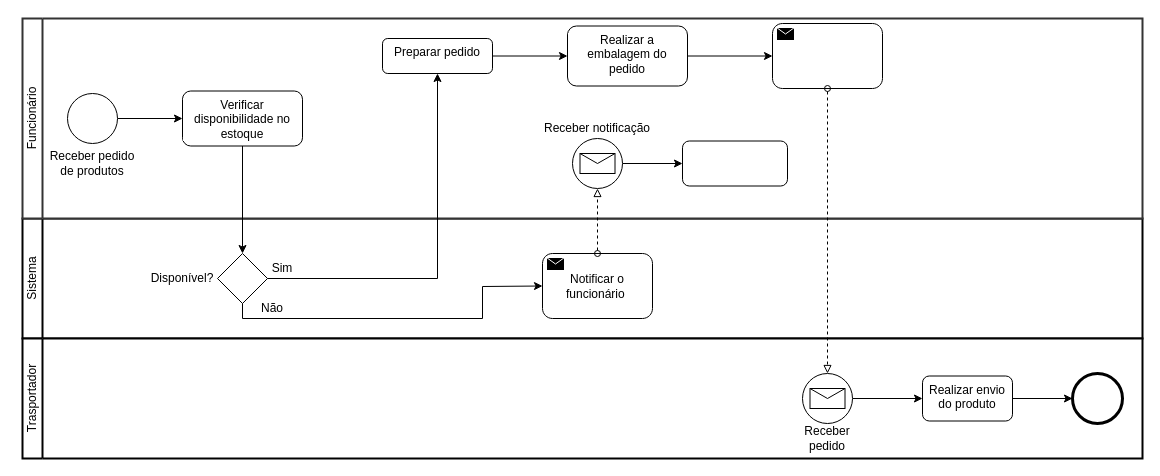
Some shapes in this 1160 by 476 pixel diagram are drawn without their labels. Each missing label, with the box of its shape:
Entregar pedido embalado: (772, 22, 882, 88)
Informar ao cliente a situação: (682, 140, 788, 186)
